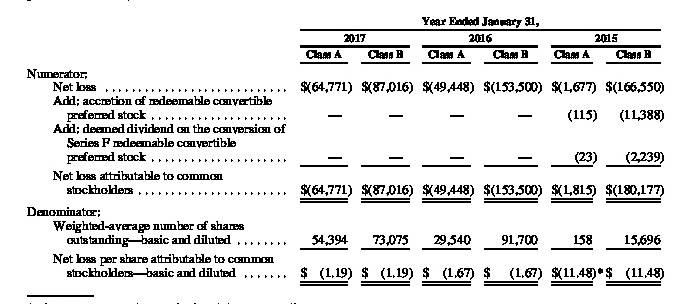table: (0, 0, 688, 304)
